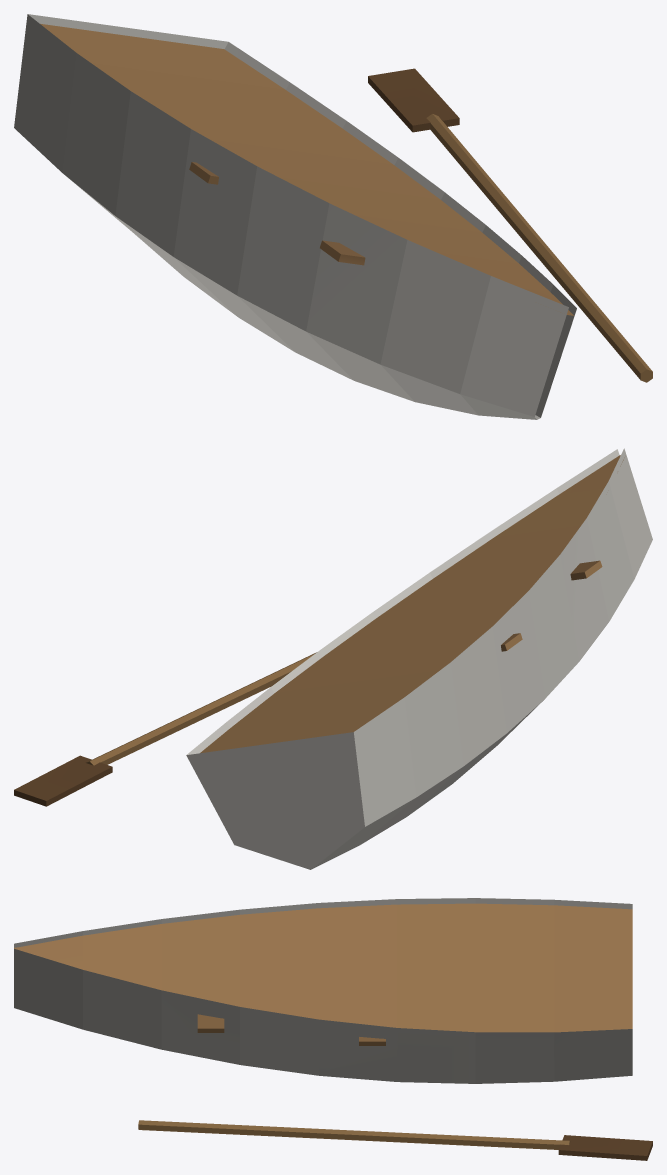
The model's file is Rowboat.fbx.
3 renders of one model, top to bottom at view 1: azimuth 30°, elevation 25°; view 2: azimuth 150°, elevation 25°; view 3: azimuth 270°, elevation 25°, orthographic. The views are drawn at different scales.
Visible parts, largest first — view 1: Rowboat; view 2: Rowboat; view 3: Rowboat.
Part boxes in pixels (left/top/right/bottom): Rowboat: left=14, top=14, right=652, bottom=419; Rowboat: left=14, top=448, right=652, bottom=869; Rowboat: left=14, top=898, right=652, bottom=1160.
Size of the model in its own units: 1.93 by 0.8804 by 3.56.
